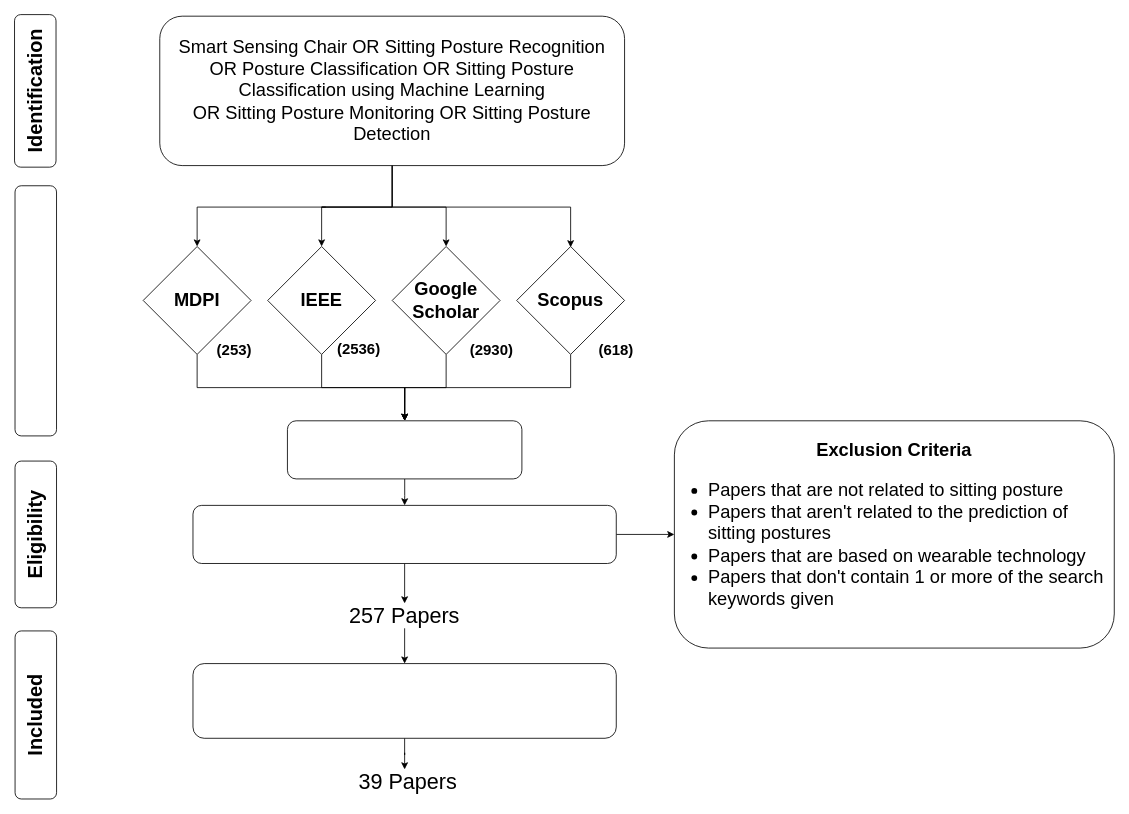
This 1129x814 diagram has some shape labels left out. The centre of each missing label's shape, as x and y in pixels:
"Exclude duplicated papers" goes at [404,449].
"Initial research eligibility screening" goes at [404,534].
"Screening" goes at [35,310].
"Selection after in-depth reading" goes at [404,700].
